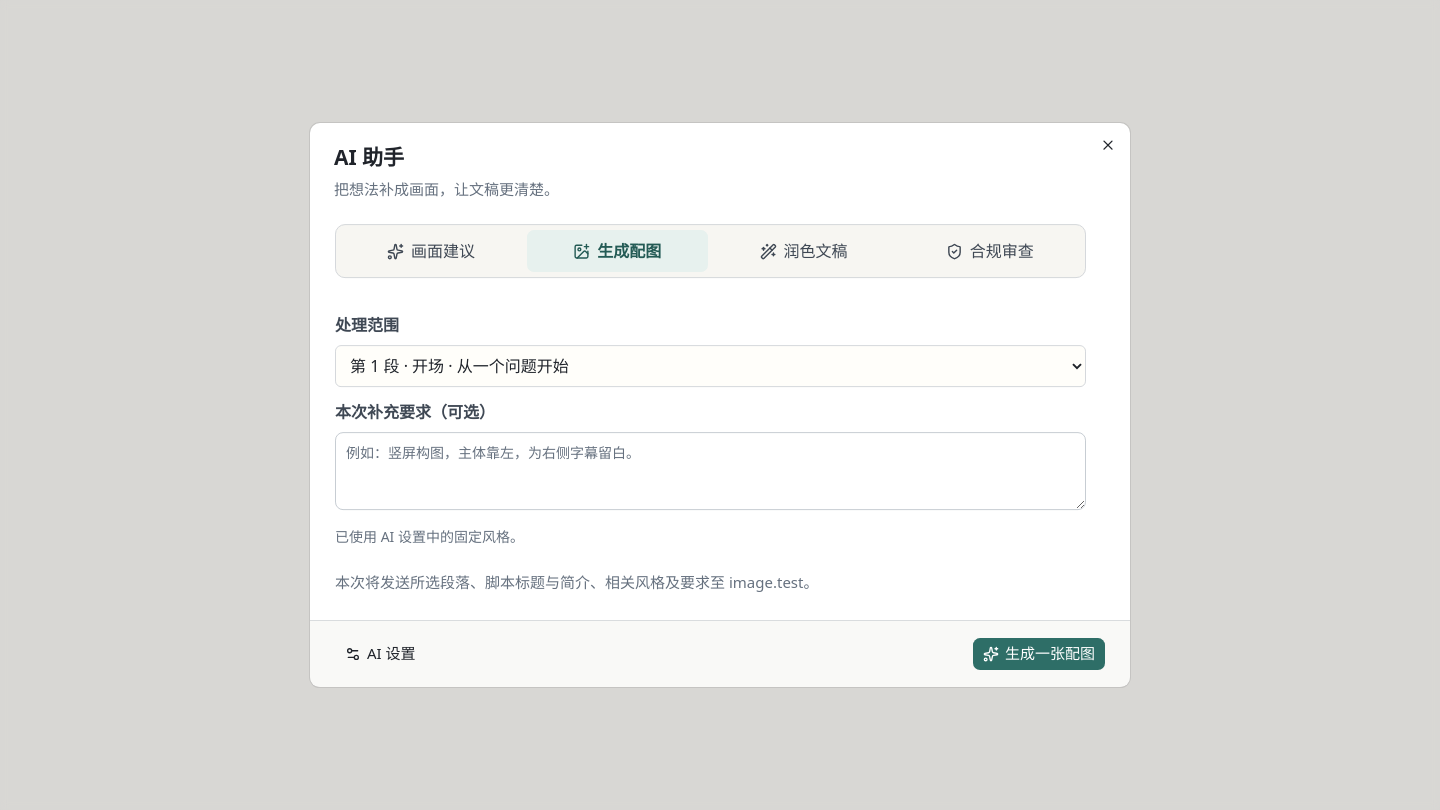
it: AI editor workflows › shows a billing error for image HTTP 402 without retrying or changing the manuscript
Click the button "生成一张配图" at {"x": 1039, "y": 654}, box [972,637,1106,671]
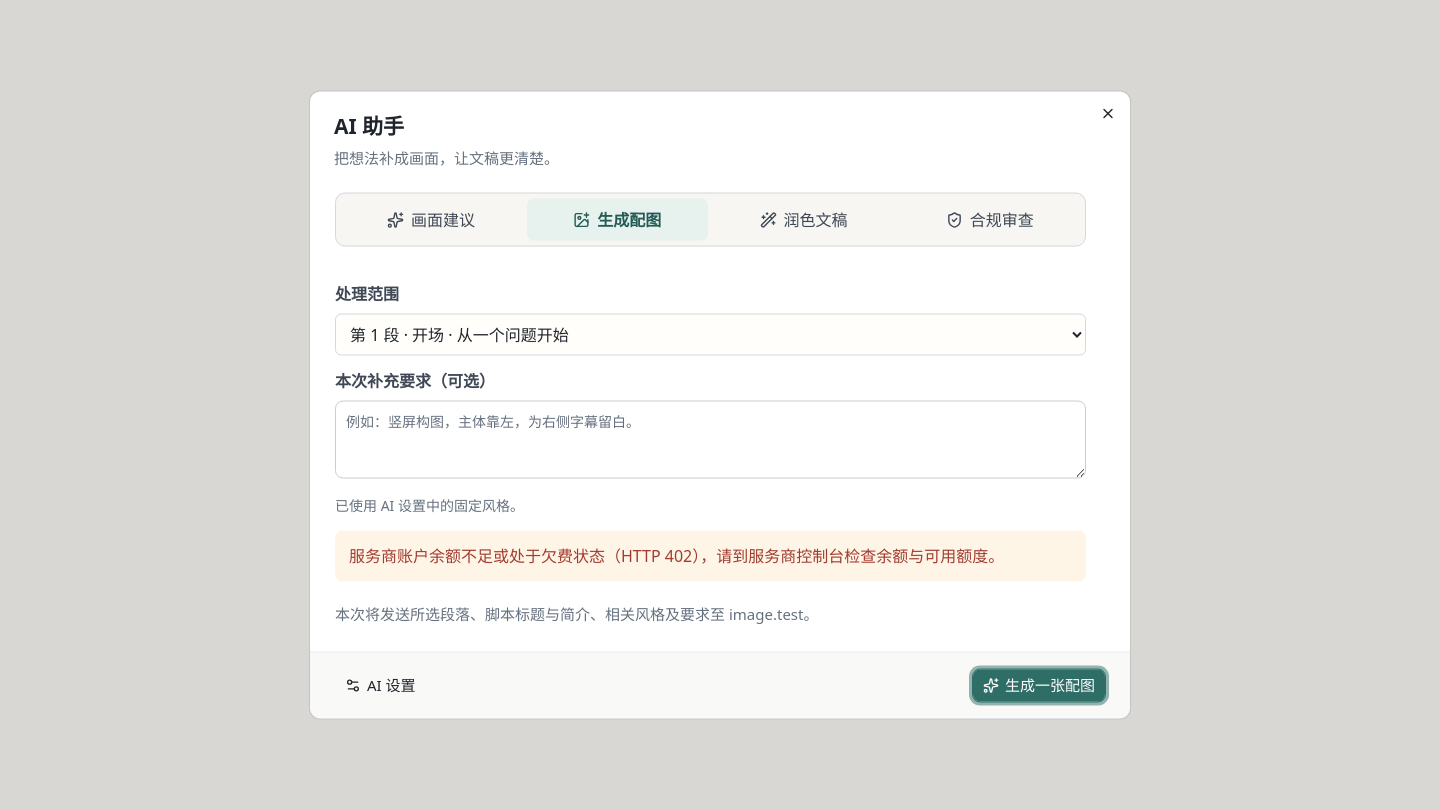
Expected: the text "服务商账户余额不足或处于欠费状态（HTTP 402），请到服务商控制台检查余额与可用额度。" is shown, [335,531,1086,582]
